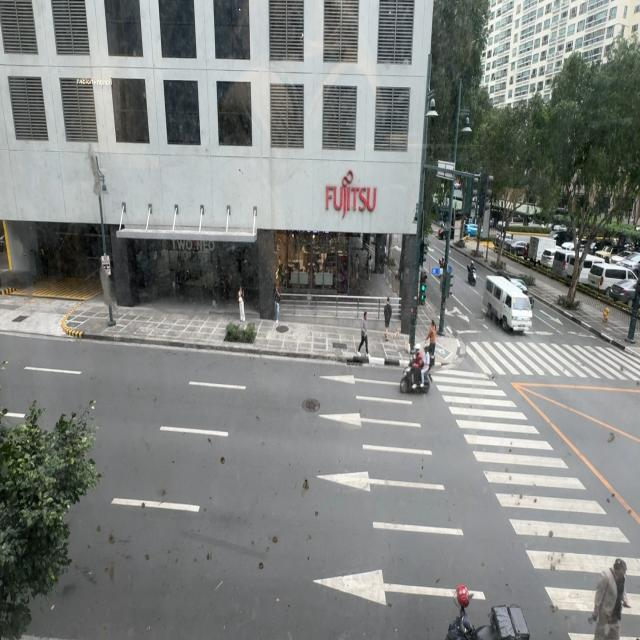crossing: (589, 545, 631, 640), (422, 320, 436, 368)
pedestrain: (381, 293, 394, 344), (357, 311, 368, 357), (273, 283, 281, 323), (238, 286, 246, 322)
